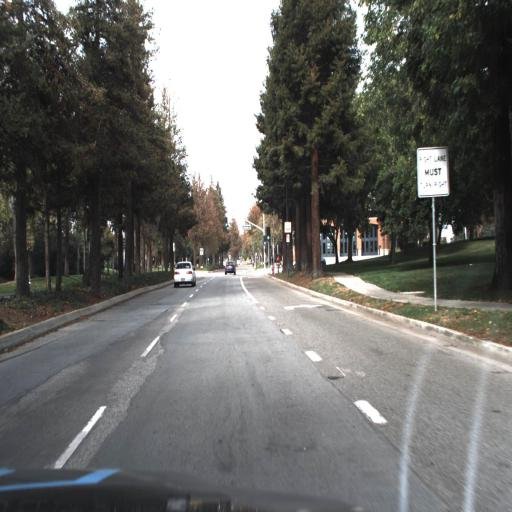car: (171, 258, 198, 290), (222, 259, 238, 278)
trafficLight-Green: (264, 224, 271, 244), (223, 214, 229, 230)
